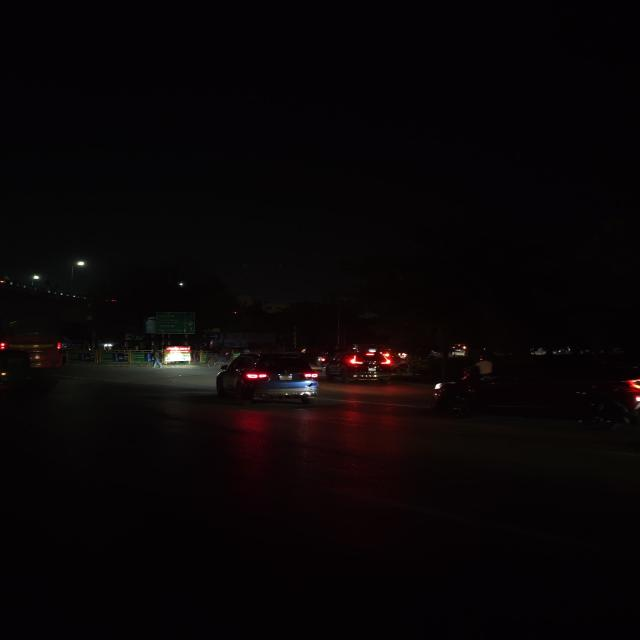car: (212, 350, 324, 408), (327, 348, 387, 383)
motorcycle: (427, 346, 499, 419)
pedestrian: (148, 348, 165, 370)
